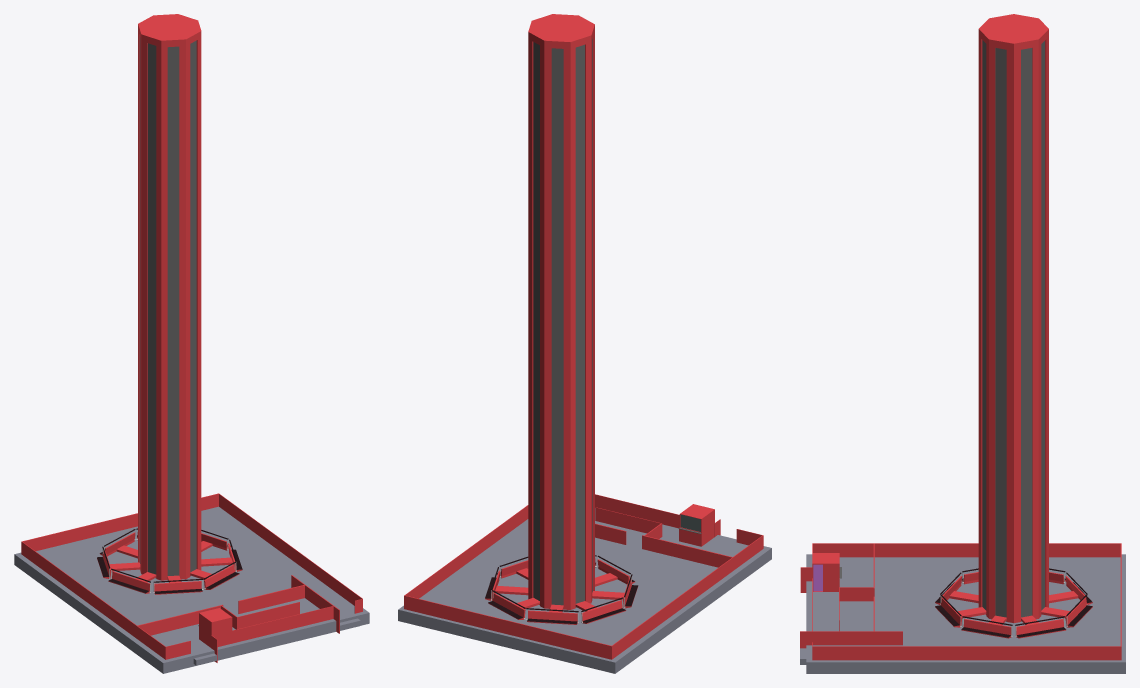
The model's file is FreeFallTower.glb.
The picture shows the model from 3 angles, left to right: view 1: azimuth 30°, elevation 25°; view 2: azimuth 150°, elevation 25°; view 3: azimuth 270°, elevation 25°; orthographic projection. The views are drawn at different scales.
Parts seen in each view (by area): view 1: Cylinder, Cube, Cube.003, Cube.001, Cube.002; view 2: Cylinder, Cube, Cube.003, Cube.001, Cube.002; view 3: Cylinder, Cube, Cube.003, Cube.002, Cube.001.
Boxes of the visible parts, left/top/right/bottom form: Cylinder: left=138, top=14, right=201, bottom=580; Cube: left=14, top=506, right=369, bottom=673; Cube.003: left=21, top=493, right=362, bottom=662; Cube.001: left=97, top=533, right=242, bottom=593; Cube.002: left=99, top=532, right=239, bottom=594; Cylinder: left=528, top=14, right=594, bottom=609; Cube: left=398, top=508, right=771, bottom=673; Cube.003: left=404, top=494, right=763, bottom=659; Cube.001: left=485, top=560, right=638, bottom=623; Cube.002: left=488, top=558, right=635, bottom=624; Cylinder: left=978, top=14, right=1048, bottom=623; Cube: left=806, top=554, right=1125, bottom=673; Cube.003: left=800, top=543, right=1121, bottom=660; Cube.002: left=935, top=576, right=1092, bottom=627; Cube.001: left=961, top=572, right=1066, bottom=638.
Size of the model in its own units: 20 by 51 by 25.49.
